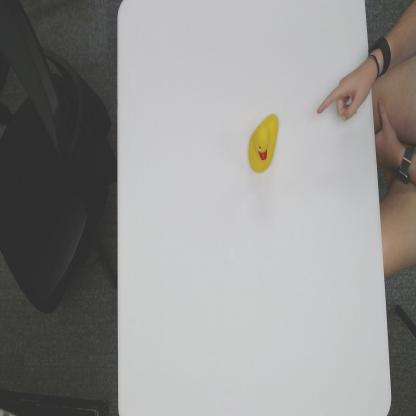Duck: (246, 110, 281, 176)
Hand: (315, 56, 375, 125)
